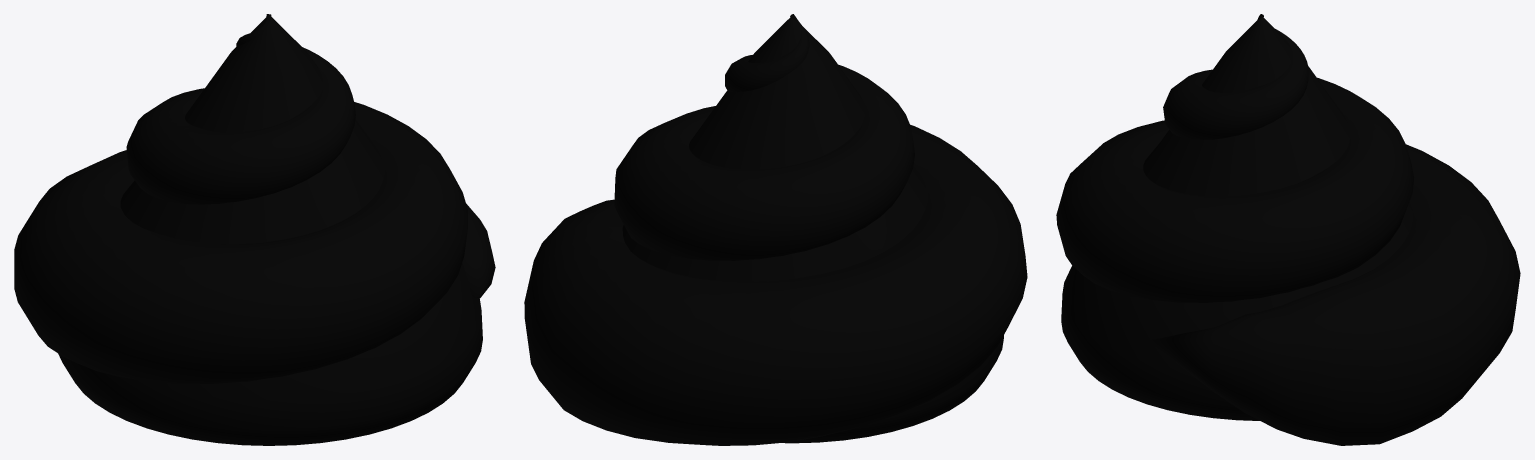
Rendered from Item_Cream.fbx.
The picture shows the model from 3 angles, left to right: view 1: azimuth 30°, elevation 25°; view 2: azimuth 150°, elevation 25°; view 3: azimuth 270°, elevation 25°; orthographic projection. The views are drawn at different scales.
Visible parts, largest first — view 1: Day_Cream.001; view 2: Day_Cream.001; view 3: Day_Cream.001.
Boxes of the visible parts, left/top/right/bottom form: Day_Cream.001: left=14, top=14, right=495, bottom=445; Day_Cream.001: left=524, top=14, right=1027, bottom=445; Day_Cream.001: left=1056, top=14, right=1520, bottom=445.
Size of the model in its own units: 54.93 by 46.36 by 54.1.
